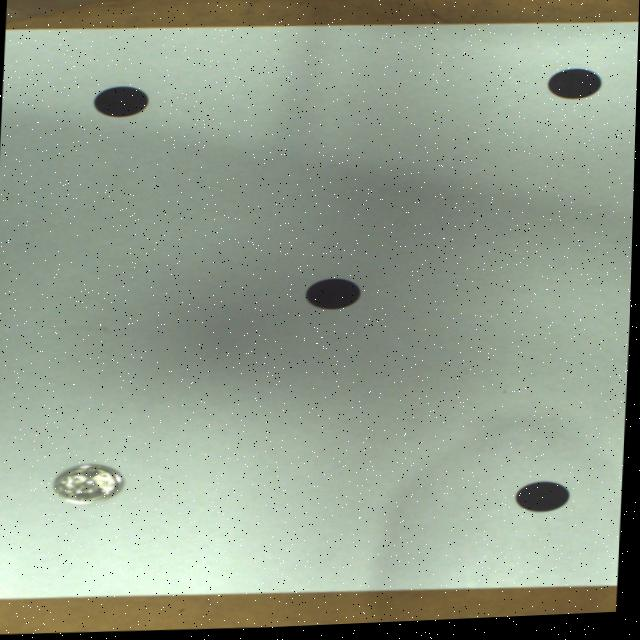space: (56, 465, 126, 504), (306, 281, 362, 313), (93, 87, 148, 117), (518, 487, 572, 517), (548, 74, 600, 104)
